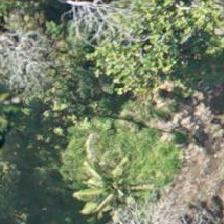coconut_tree: (70, 149, 160, 223)
